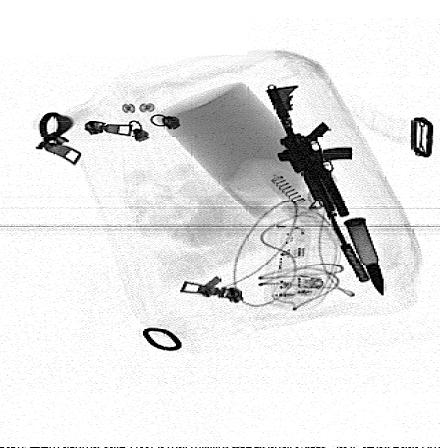Bullet: (343, 216, 384, 297)
Gun: (267, 84, 372, 283)
